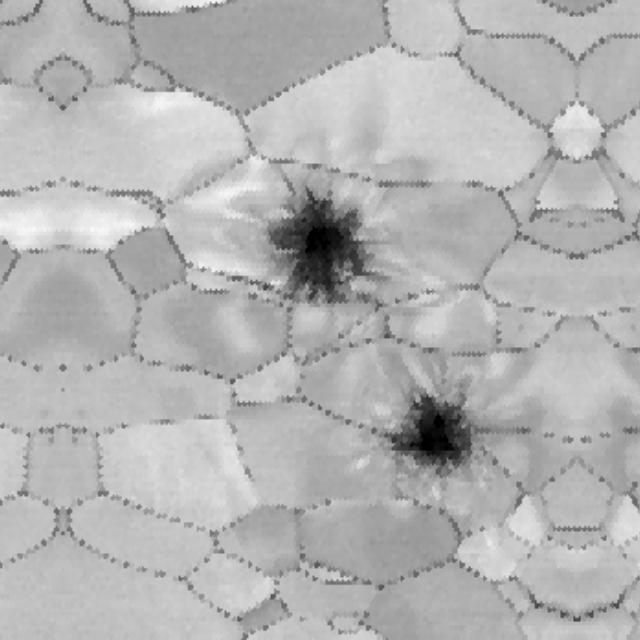good_void: (347, 373, 487, 483), (262, 182, 374, 315)
